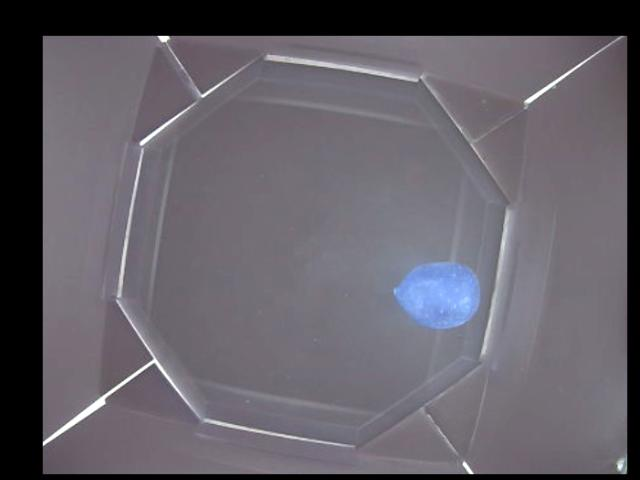Potato: (393, 255, 478, 328)
